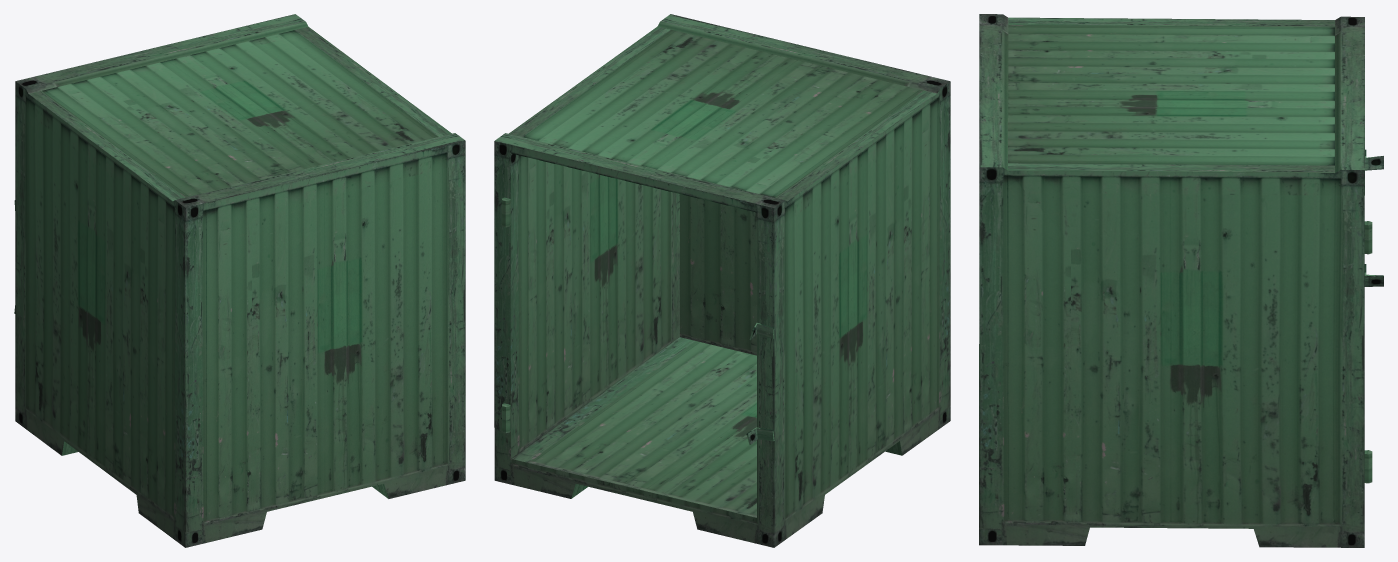
File: Container_BoxOpen06.FBX
3 views of the same model, side by side, from view 1: azimuth 30°, elevation 25°; view 2: azimuth 150°, elevation 25°; view 3: azimuth 270°, elevation 25° (orthographic). The views are drawn at different scales.
Parts seen in each view (by area): view 1: Container_BoxOpen06; view 2: Container_BoxOpen06; view 3: Container_BoxOpen06.
Boxes of the visible parts, box(x1,y1,x2,y2) form: Container_BoxOpen06: box(14, 14, 465, 547); Container_BoxOpen06: box(494, 14, 950, 547); Container_BoxOpen06: box(979, 14, 1383, 547).
Bounding box in the file's own units: 99.24 × 114 × 110.
